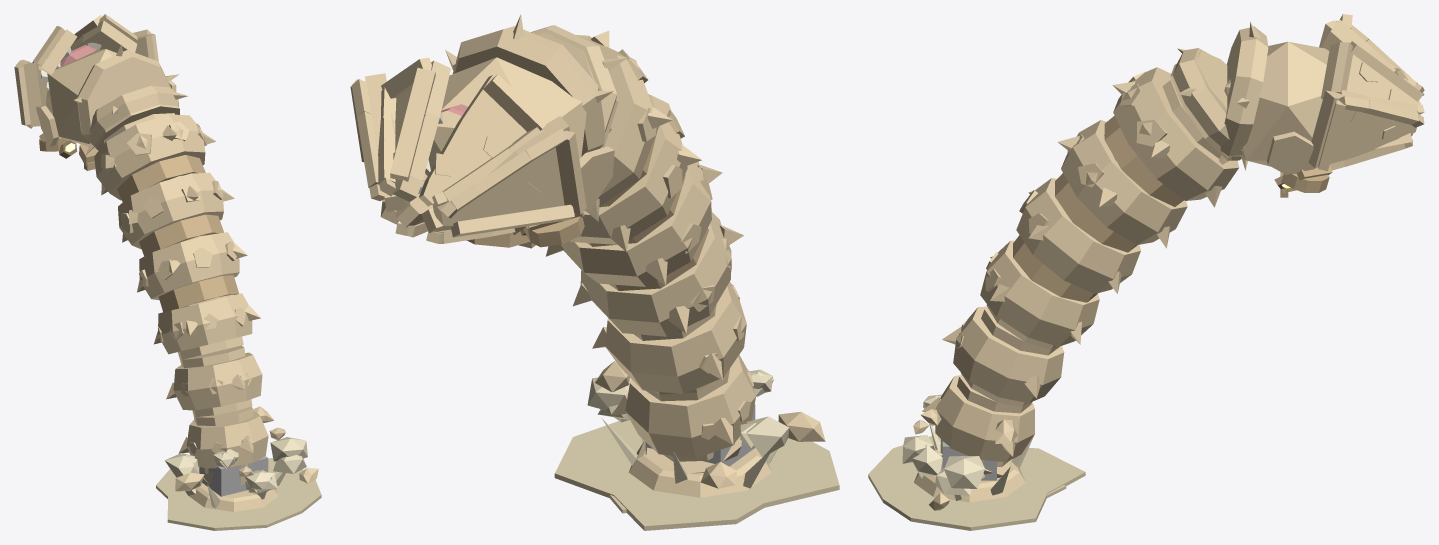
Rendered from Dune.fbx.
3 views of the same model, side by side, from view 1: azimuth 30°, elevation 25°; view 2: azimuth 150°, elevation 25°; view 3: azimuth 270°, elevation 25° (orthographic). The views are drawn at different scales.
Visible parts, largest first — view 1: Dune_Head_Sandstone, Dune_Body1_Sandstone, Dune_Body5_Sandstone, Dune_Body2_Sandstone, Dune_Body4_Sandstone, Dune_SandRing_SandDark, Dune_Body3_Sandstone, Dune_Body6_Sandstone, Dune_SandBurst_Sand, Dune_Neck_Sandstone, Dune_JawTop_Sandstone, Dune_Mandible_L_Sandstone (+7 smaller); view 2: Dune_JawTop_Sandstone, Dune_SandRing_SandDark, Dune_Head_Sandstone, Dune_Mandible_L_Sandstone, Dune_Body5_Sandstone, Dune_Body6_Sandstone, Dune_Body4_Sandstone, Dune_Body3_Sandstone, Dune_Body2_Sandstone, Dune_Body1_Sandstone, Dune_Mandible_R_Sandstone, Dune_SandBurst_Sand (+6 smaller); view 3: Dune_Head_Sandstone, Dune_Body1_Sandstone, Dune_SandRing_SandDark, Dune_Body2_Sandstone, Dune_Body5_Sandstone, Dune_Body3_Sandstone, Dune_Body4_Sandstone, Dune_Mandible_R_Sandstone, Dune_Body6_Sandstone, Dune_JawTop_Sandstone, Dune_Neck_Sandstone, Dune_SandBurst_Sand (+6 smaller).
Part boxes in pixels (bbox=[...]): Dune_Head_Sandstone: bbox=[35, 44, 179, 149]; Dune_Body1_Sandstone: bbox=[94, 113, 215, 200]; Dune_Body5_Sandstone: bbox=[166, 345, 262, 417]; Dune_Body2_Sandstone: bbox=[118, 172, 234, 248]; Dune_Body4_Sandstone: bbox=[154, 293, 260, 360]; Dune_SandRing_SandDark: bbox=[156, 458, 321, 530]; Dune_Body3_Sandstone: bbox=[137, 232, 247, 299]; Dune_Body6_Sandstone: bbox=[178, 406, 268, 473]; Dune_SandBurst_Sand: bbox=[165, 437, 307, 508]; Dune_Neck_Sandstone: bbox=[85, 86, 187, 155]; Dune_JawTop_Sandstone: bbox=[32, 14, 137, 74]; Dune_Mandible_L_Sandstone: bbox=[14, 59, 76, 143]; Dune_JawTop_Sandstone: bbox=[378, 57, 547, 206]; Dune_SandRing_SandDark: bbox=[554, 420, 839, 530]; Dune_Head_Sandstone: bbox=[425, 14, 614, 210]; Dune_Mandible_L_Sandstone: bbox=[421, 116, 586, 243]; Dune_Body5_Sandstone: bbox=[592, 282, 746, 394]; Dune_Body6_Sandstone: bbox=[612, 355, 755, 461]; Dune_Body4_Sandstone: bbox=[573, 212, 743, 336]; Dune_Body3_Sandstone: bbox=[546, 161, 722, 286]; Dune_Body2_Sandstone: bbox=[569, 94, 701, 252]; Dune_Body1_Sandstone: bbox=[576, 30, 672, 221]; Dune_Mandible_R_Sandstone: bbox=[350, 73, 432, 237]; Dune_SandBurst_Sand: bbox=[587, 369, 789, 488]; Dune_Head_Sandstone: bbox=[1219, 22, 1329, 174]; Dune_Body1_Sandstone: bbox=[1112, 67, 1239, 207]; Dune_SandRing_SandDark: bbox=[868, 435, 1085, 530]; Dune_Body2_Sandstone: bbox=[1058, 120, 1187, 248]; Dune_Body5_Sandstone: bbox=[942, 306, 1064, 406]; Dune_Body3_Sandstone: bbox=[1016, 178, 1140, 293]; Dune_Body4_Sandstone: bbox=[980, 240, 1099, 349]; Dune_Mandible_R_Sandstone: bbox=[1308, 90, 1424, 171]; Dune_Body6_Sandstone: bbox=[922, 375, 1034, 467]; Dune_JawTop_Sandstone: bbox=[1321, 14, 1424, 114]; Dune_Neck_Sandstone: bbox=[1170, 48, 1248, 170]; Dune_SandBurst_Sand: bbox=[902, 394, 1034, 501].
Size of what is drawn, in the model's own units: 4.98 by 11.26 by 12.32.
